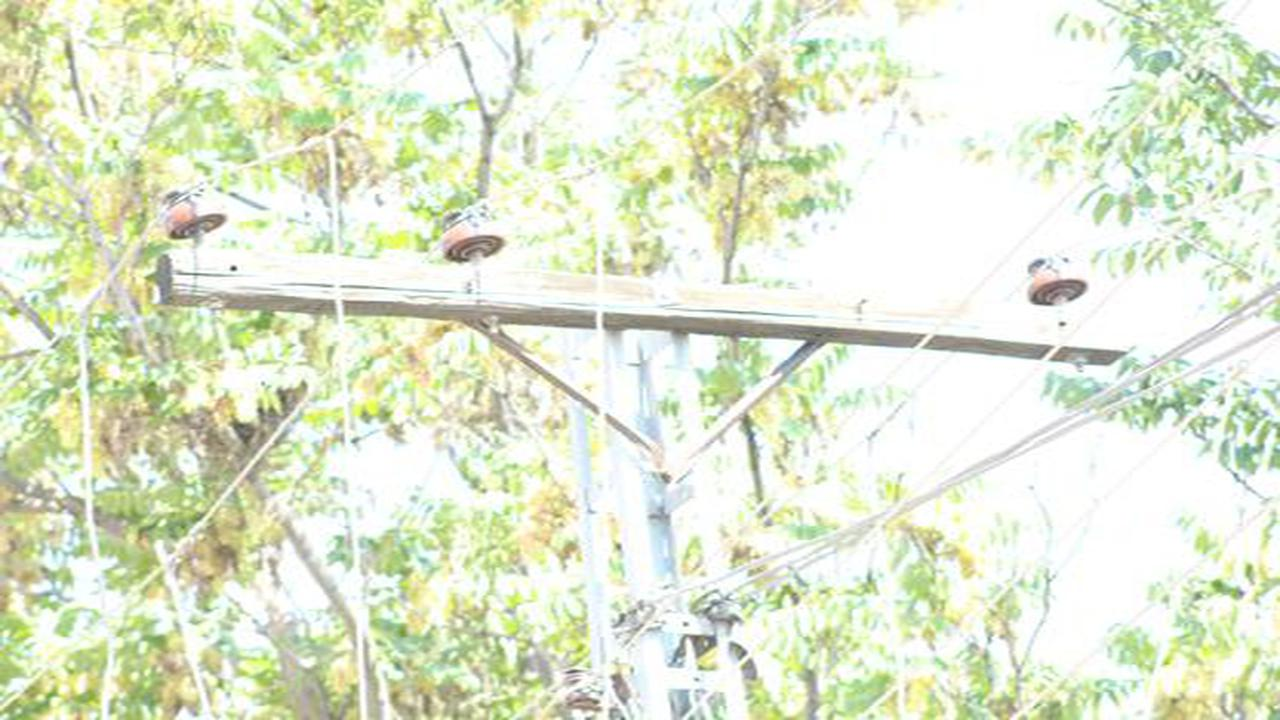insulator_pin: (435, 201, 508, 266), (1025, 249, 1091, 311), (159, 180, 231, 236)
